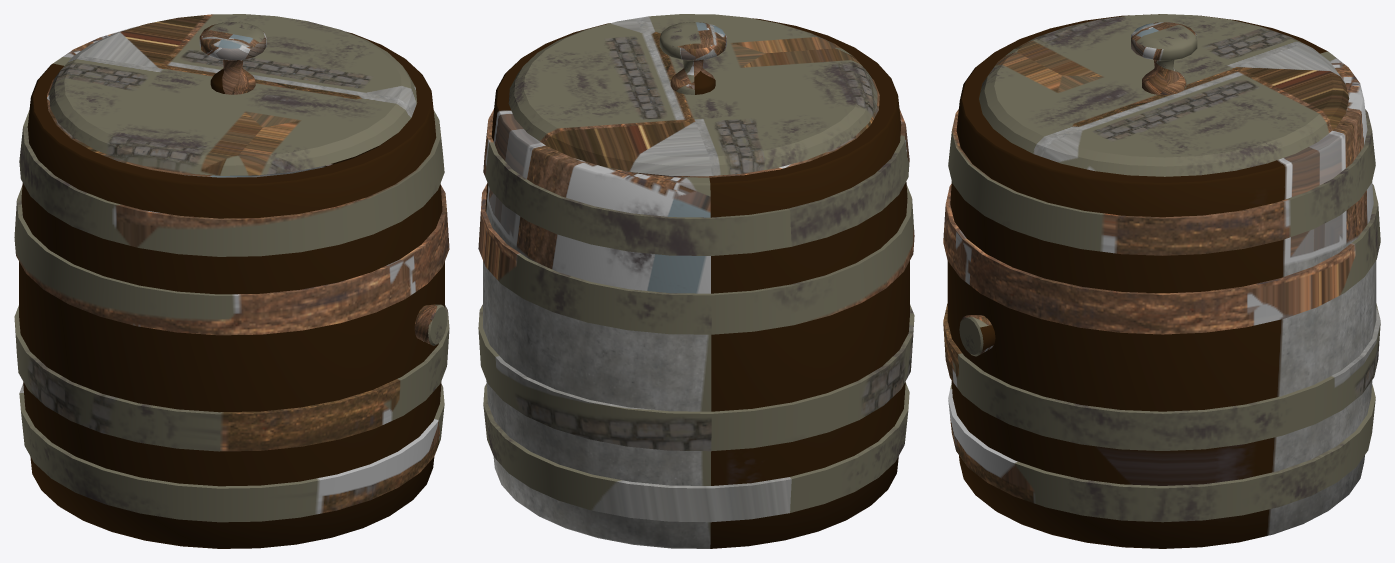
Rendered from Barril2.fbx.
The picture shows the model from 3 angles, left to right: view 1: azimuth 30°, elevation 25°; view 2: azimuth 150°, elevation 25°; view 3: azimuth 270°, elevation 25°; orthographic projection.
Parts seen in each view (by area): view 1: BL_2; view 2: BL_2; view 3: BL_2.
Part boxes in pixels (x1,y1,x2,y2): BL_2: (14,14,449,548); BL_2: (478,14,914,548); BL_2: (943,14,1380,548).
Bounding box in the file's own units: 84.21 × 92.12 × 84.21.
